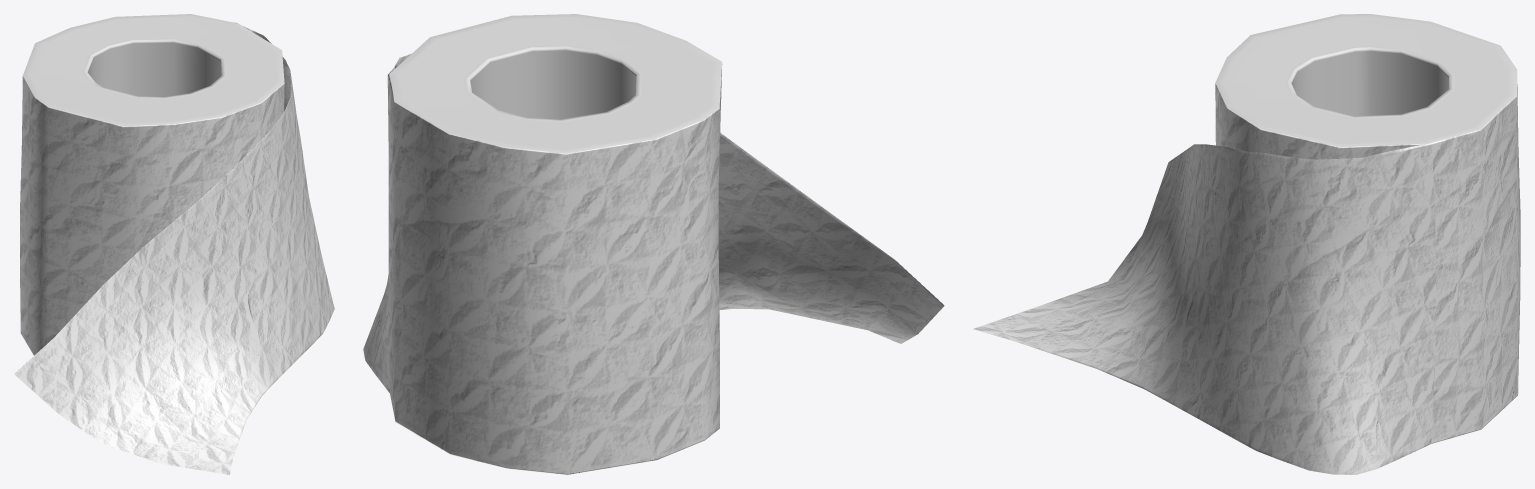
Rendered from papertoilet.fbx.
3 views of the same model, side by side, from view 1: azimuth 30°, elevation 25°; view 2: azimuth 150°, elevation 25°; view 3: azimuth 270°, elevation 25° (orthographic). The views are drawn at different scales.
Parts seen in each view (by area): view 1: Circle; view 2: Circle; view 3: Circle.
Part boxes in pixels (left/top/right/bottom): Circle: left=14, top=14, right=334, bottom=474; Circle: left=363, top=14, right=944, bottom=474; Circle: left=973, top=14, right=1520, bottom=474.
Size of the model in its own units: 15.35 by 9.79 by 16.07.
